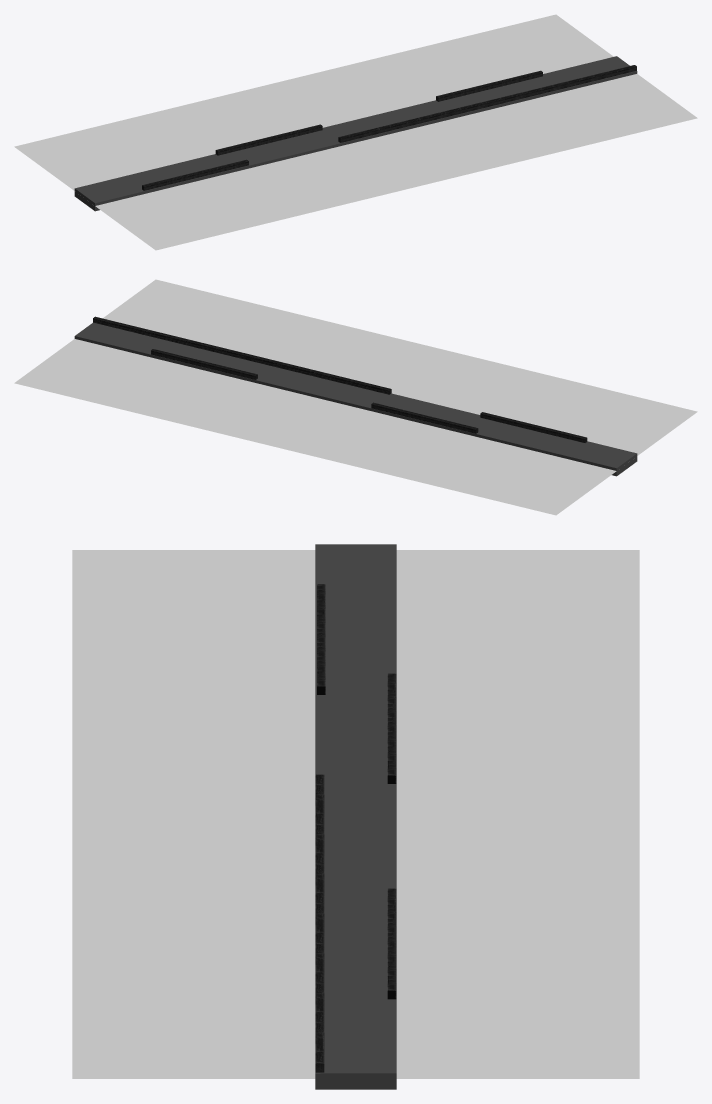
Rendered from straight.fbx.
3 renders of one model, top to bottom at view 1: azimuth 30°, elevation 25°; view 2: azimuth 150°, elevation 25°; view 3: azimuth 270°, elevation 25°, orthographic. The views are drawn at different scales.
Parts seen in each view (by area): view 1: Plane.004, straight path.005, Cube.055, Cube.047, Cube.030, Cube.042; view 2: Plane.004, straight path.005, Cube.055, Cube.047, Cube.042, Cube.030; view 3: Plane.004, straight path.005, Cube.055, Cube.030, Cube.047, Cube.042.
Boxes of the visible parts, left/top/right/bottom form: Plane.004: left=14, top=14, right=697, bottom=250; straight path.005: left=74, top=56, right=637, bottom=211; Cube.055: left=338, top=65, right=636, bottom=142; Cube.047: left=215, top=124, right=322, bottom=155; Cube.030: left=436, top=70, right=542, bottom=101; Cube.042: left=142, top=159, right=248, bottom=190; Plane.004: left=14, top=279, right=697, bottom=515; straight path.005: left=74, top=322, right=637, bottom=476; Cube.055: left=93, top=316, right=391, bottom=394; Cube.047: left=371, top=402, right=478, bottom=433; Cube.042: left=480, top=412, right=587, bottom=442; Cube.030: left=151, top=349, right=257, bottom=379; Plane.004: left=72, top=550, right=639, bottom=1078; straight path.005: left=315, top=544, right=396, bottom=1089; Cube.055: left=315, top=774, right=324, bottom=1072; Cube.030: left=387, top=888, right=396, bottom=999; Cube.047: left=387, top=673, right=396, bottom=783; Cube.042: left=317, top=584, right=325, bottom=694.
Bounding box in the file's own units: 15363 × 343 × 6962.
